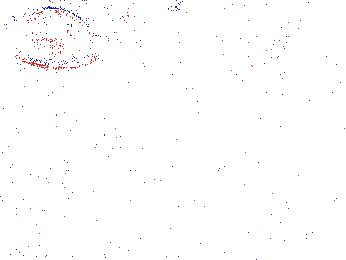moon jellyfish: (170, 1, 286, 75), (69, 1, 140, 84), (13, 8, 101, 71), (121, 7, 198, 66)
